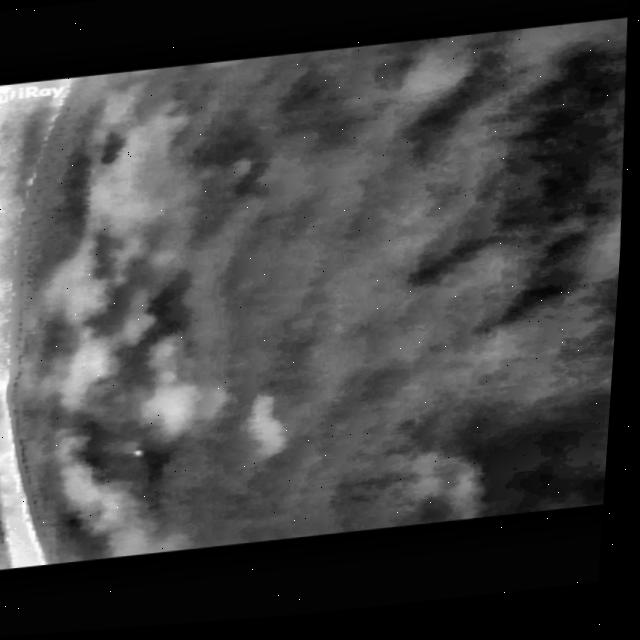drone: (135, 450, 153, 462)
